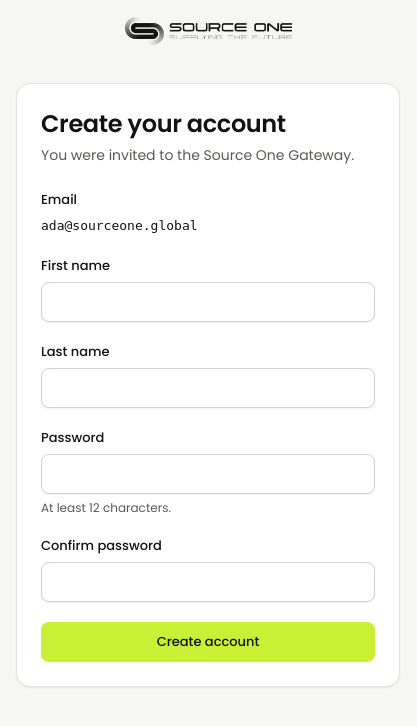
RegisterPage › says the passwords don't match, under Confirm password, and sends nothing
Step 1. Type "Ada" into the field labelled "First name" → (208, 302), box [41, 282, 375, 322]
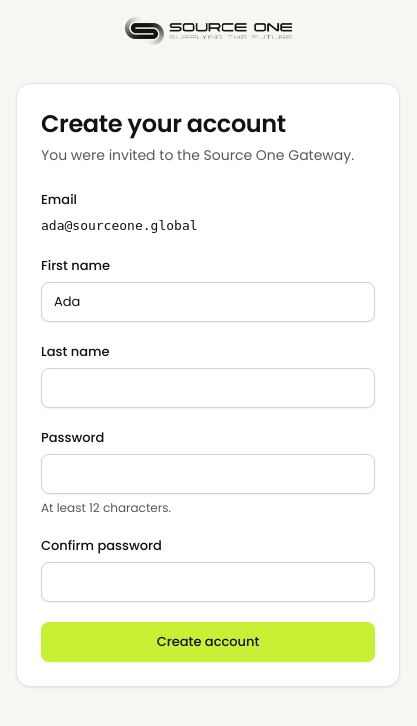
Step 2. Type "Lovelace" into the field labelled "Last name" → (208, 388), box [41, 368, 375, 408]
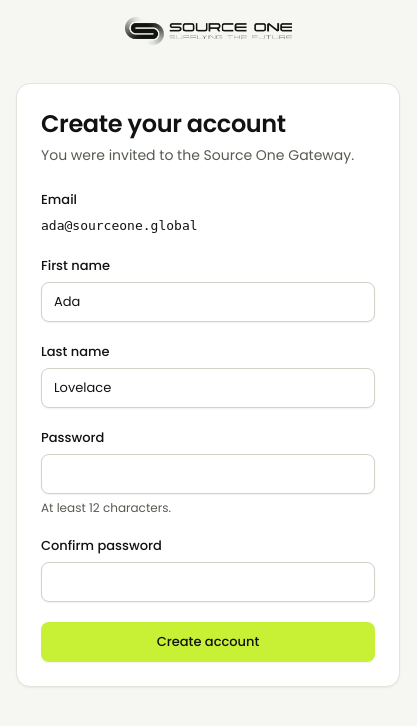
Step 3. Type "a long enough password" into the password field labelled "Password" → (208, 474), box [41, 454, 375, 494]
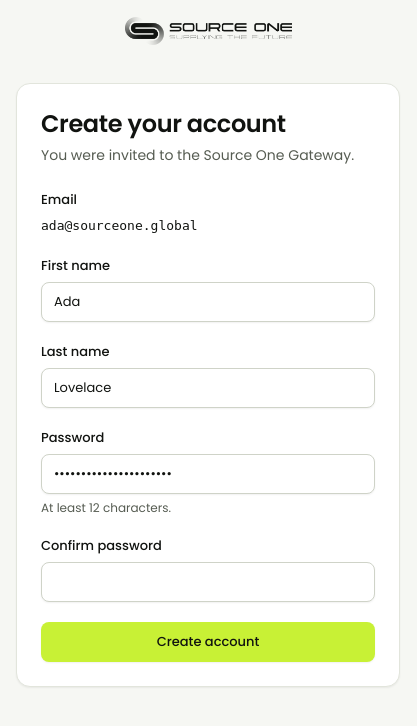
Step 4. Type "a different password" into the password field labelled "Confirm password" → (208, 582), box [41, 562, 375, 602]
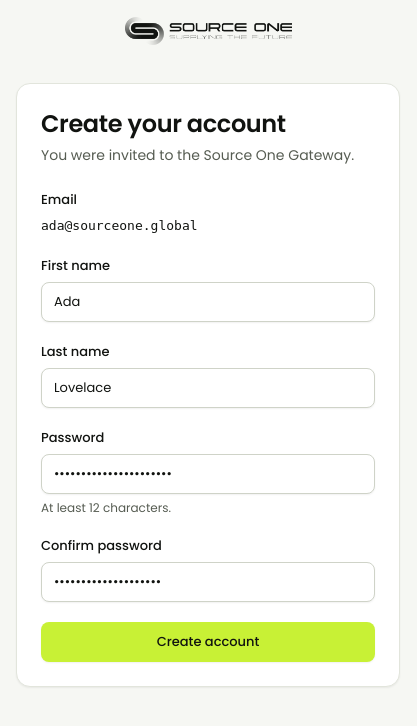
Step 5. Click the button "Create account" → click(208, 642), box [41, 622, 375, 662]
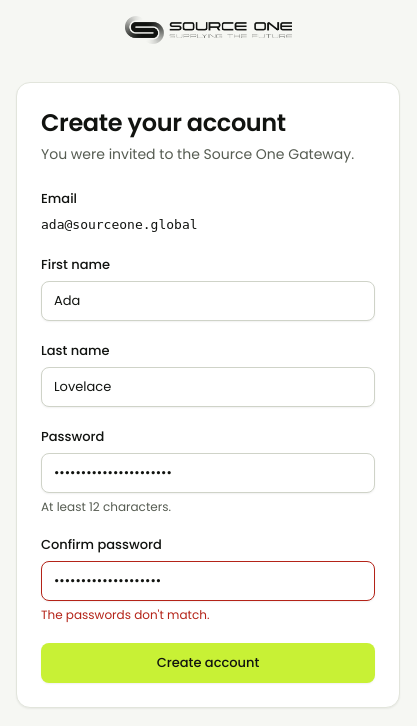
expect the text "The passwords don't match." is shown: met, box [41, 606, 209, 623]
